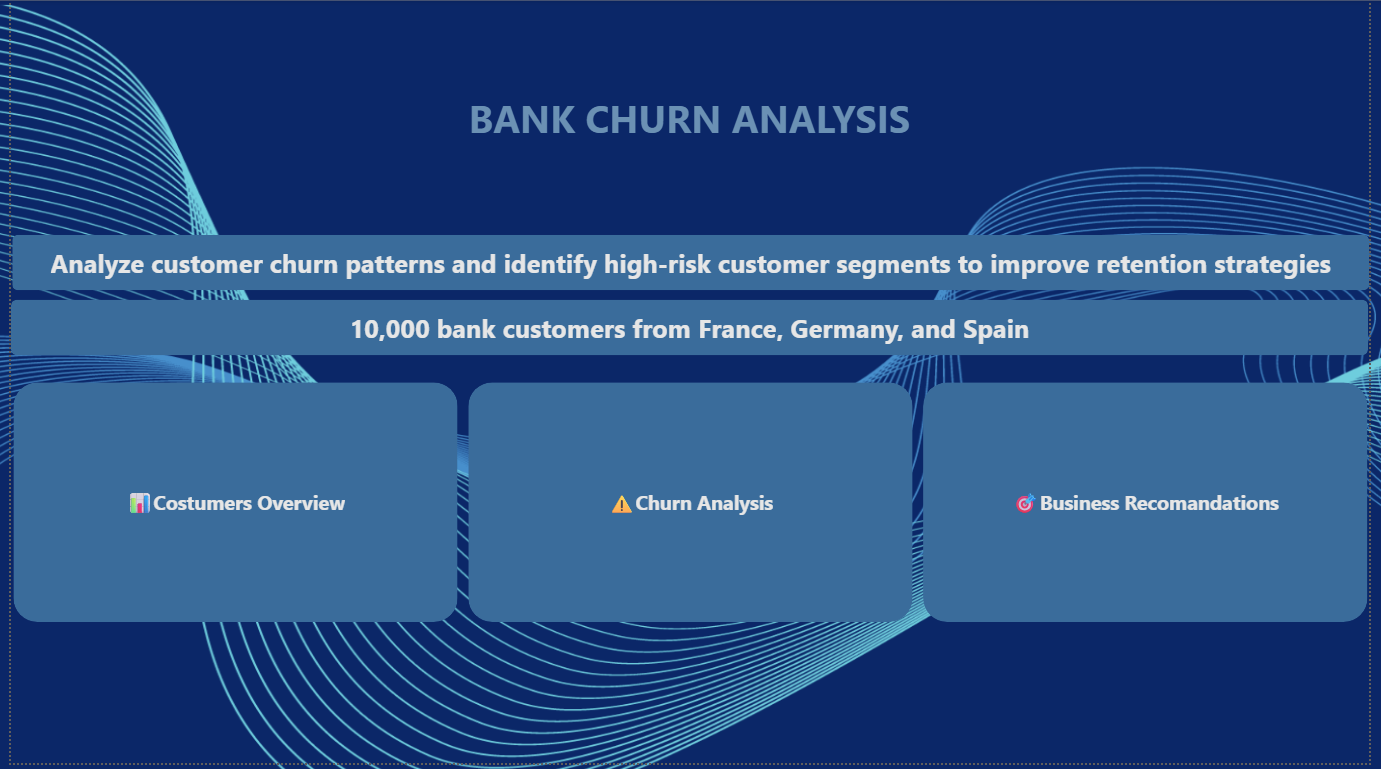

Layout of this report page (visuals, bound fields, positions):
{"tool":"powerbi","page":{"name":"🏠Home","canvas":[1280,720],"ordinal":0},"visuals":[{"type":"pageNavigator","box":[2.2,360.4,1278.2,226.9],"z":0},{"type":"actionButton","box":[0,0,1279.3,221.4],"z":1000},{"type":"actionButton","box":[1.1,221.4,1279.3,52.3],"z":2000},{"type":"actionButton","box":[0,282.6,1279.3,52.3],"z":3000}]}

Visuals, with their boxes in screenshot pixels (x1, y1, x2, y2), scaled from the page's 1280x720 canvas onto the 1381x769 screenshot:
pageNavigator: BBox(2, 385, 1380, 627)
actionButton: BBox(0, 0, 1380, 236)
actionButton: BBox(1, 236, 1380, 292)
actionButton: BBox(0, 302, 1380, 358)
